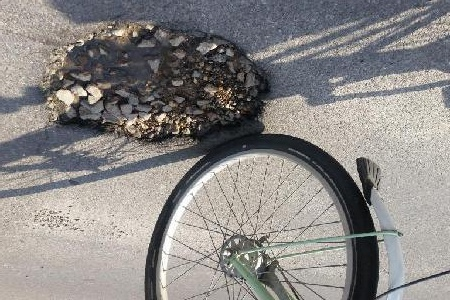pothole: (40, 21, 273, 146)
